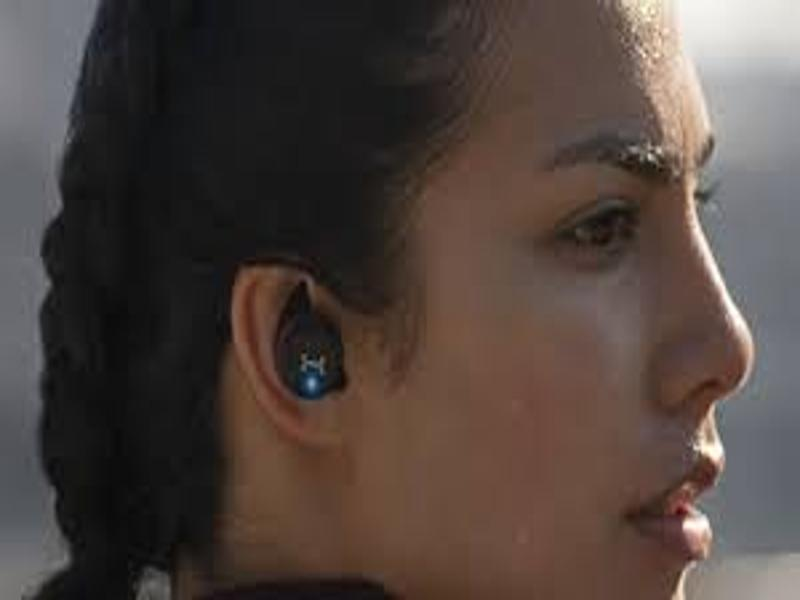headphone: (272, 278, 352, 397)
